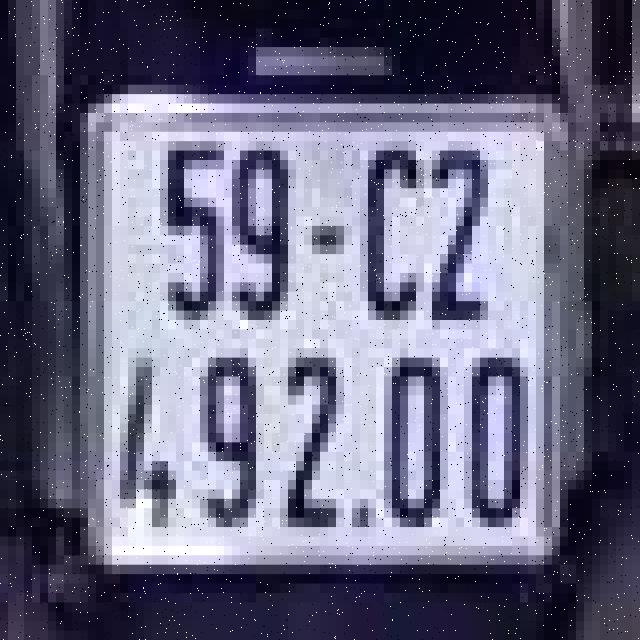0: (372, 353, 444, 541), (460, 344, 524, 541)
2: (276, 334, 356, 532), (432, 141, 496, 320)
4: (104, 334, 192, 532)
5: (164, 127, 220, 325)
9: (188, 344, 268, 532), (228, 132, 292, 339)
C: (360, 142, 424, 330)
